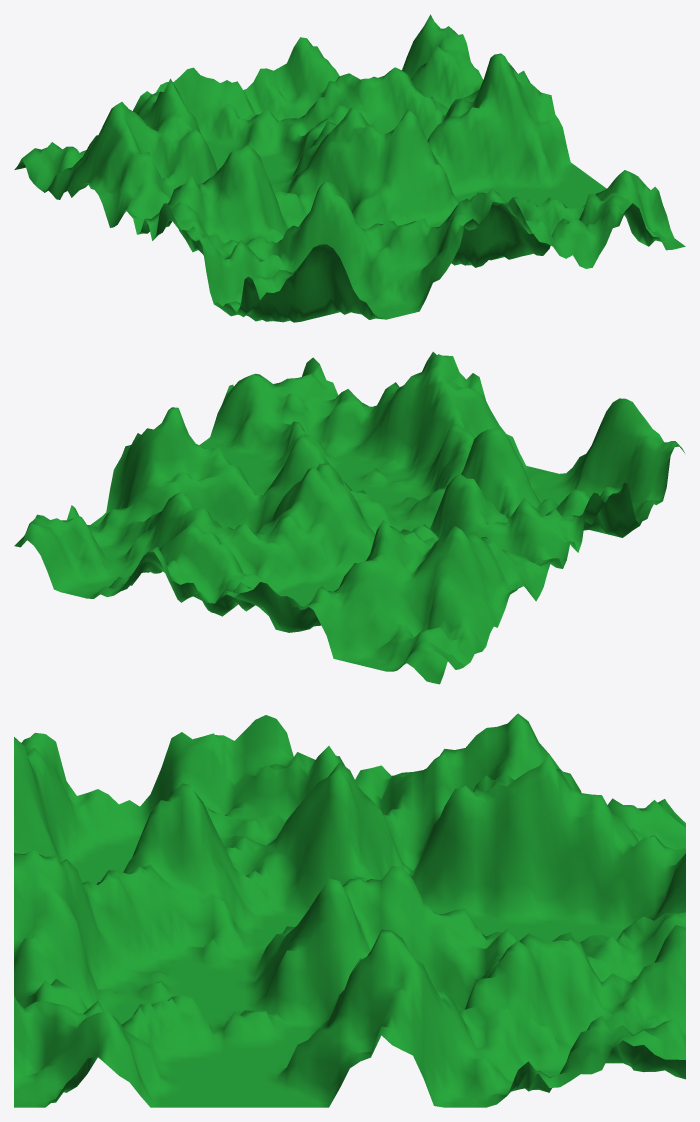
File: terrain.fbx
The picture shows the model from 3 angles, top to bottom: view 1: azimuth 30°, elevation 25°; view 2: azimuth 150°, elevation 25°; view 3: azimuth 270°, elevation 25°; orthographic projection. The views are drawn at different scales.
Parts seen in each view (by area): view 1: Plane; view 2: Plane; view 3: Plane.
Boxes of the visible parts, x1,y1,x2,y2 form: Plane: [14, 14, 685, 322]; Plane: [14, 352, 684, 684]; Plane: [14, 713, 685, 1107].
Bounding box in the file's own units: 4355 × 1019 × 4355.
